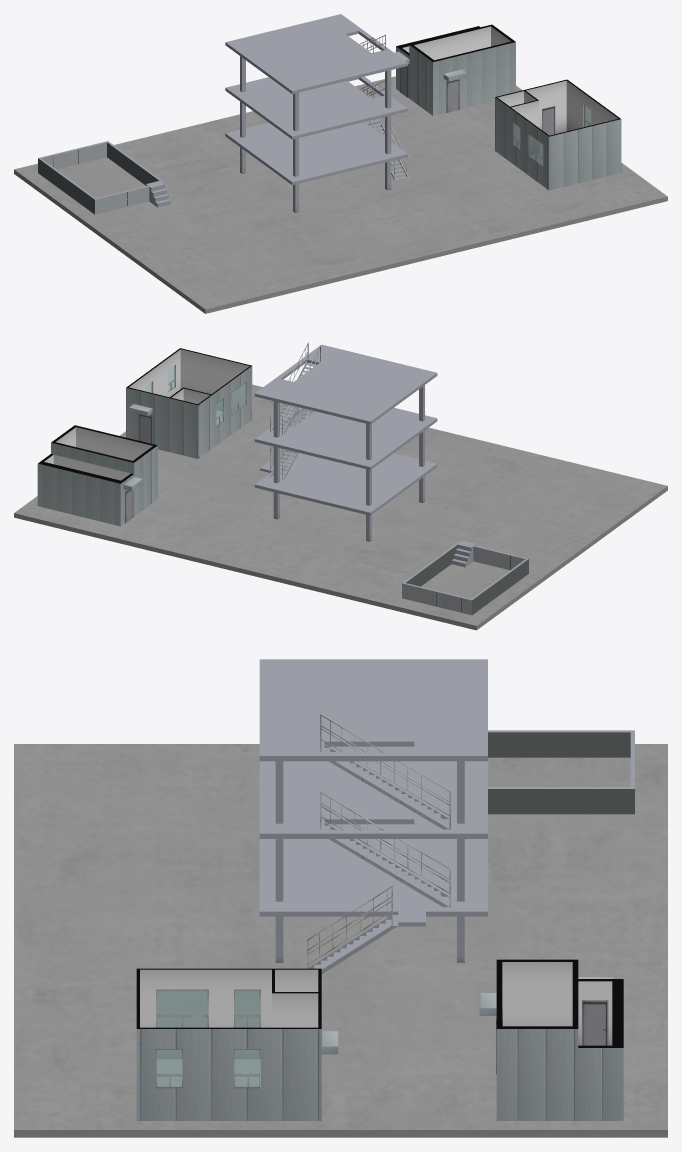
The model's file is Enthanol-storage-1F.glb.
3 views of the same model, one above another, from view 1: azimuth 30°, elevation 25°; view 2: azimuth 150°, elevation 25°; view 3: azimuth 270°, elevation 25° (orthographic). The views are drawn at different scales.
Visible parts, largest first — view 1: Box001, Box094, Line365, Rectangle001, Line366, Box087, 포소화설비실; view 2: Box001, Box094, Line365, Rectangle001, Line366, Box087; view 3: Box001, Box094, Line365, Rectangle001, Line366, Box087, Box056, Box025, Box050, 포소화설비실, Box089.
Part boxes in pixels (bbox=[...]): Box001: bbox=[14, 76, 667, 313]; Box094: bbox=[225, 14, 407, 212]; Line365: bbox=[495, 79, 621, 190]; Rectangle001: bbox=[394, 24, 515, 115]; Line366: bbox=[38, 141, 170, 214]; Box087: bbox=[513, 105, 591, 166]; 포소화설비실: bbox=[400, 66, 459, 112]; Box001: bbox=[14, 384, 667, 630]; Box094: bbox=[254, 344, 437, 541]; Line365: bbox=[126, 348, 252, 458]; Rectangle001: bbox=[37, 425, 157, 526]; Line366: bbox=[402, 540, 528, 615]; Box087: bbox=[145, 365, 246, 426]; Box001: bbox=[14, 744, 667, 1137]; Box094: bbox=[259, 659, 487, 962]; Line365: bbox=[136, 968, 338, 1120]; Rectangle001: bbox=[479, 959, 623, 1120]; Line366: bbox=[488, 730, 634, 814]; Box087: bbox=[156, 989, 260, 1088]; Box056: bbox=[324, 744, 449, 829]; Box025: bbox=[308, 911, 425, 974]; Box050: bbox=[324, 822, 449, 907]; 포소화설비실: bbox=[496, 1000, 608, 1073]; Box089: bbox=[157, 1059, 260, 1086].
Size of the model in its own units: 32.35 by 9.87 by 23.18.
9 materials, 8 textured.
